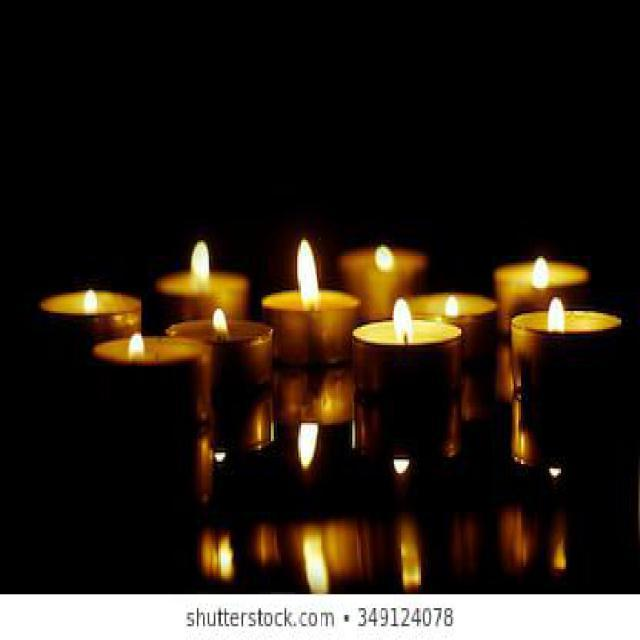Fire: (297, 238, 320, 308), (392, 298, 414, 346), (298, 423, 320, 471), (192, 242, 210, 288), (212, 306, 230, 345), (546, 300, 565, 332)
